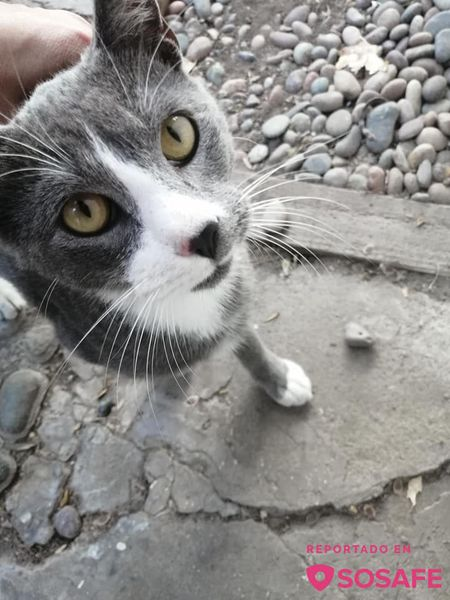cat: (6, 1, 335, 457)
